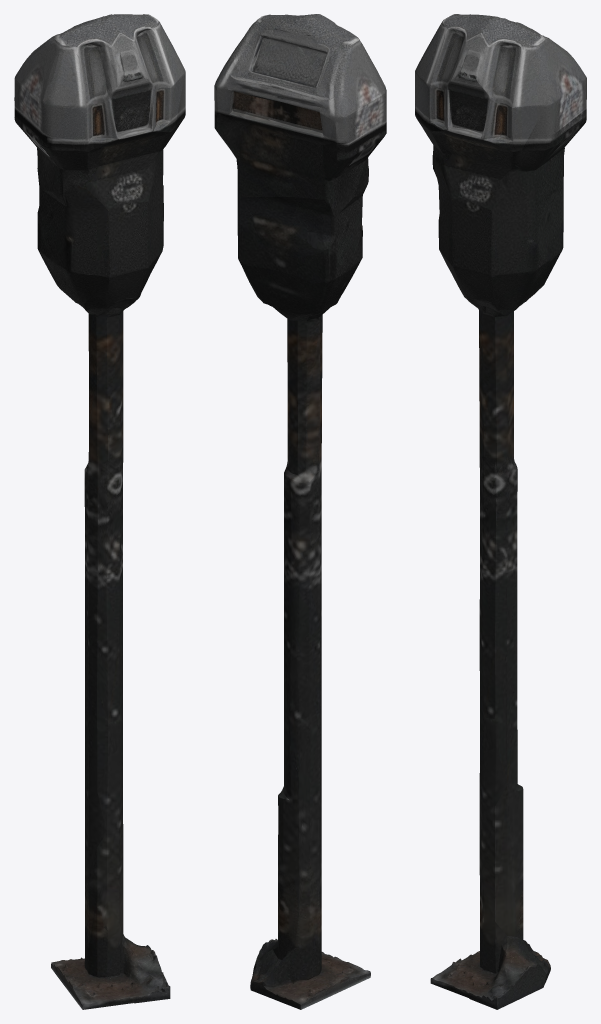
The model's file is coin-parking-meter.glb.
3 renders of one model, left to right at view 1: azimuth 30°, elevation 25°; view 2: azimuth 150°, elevation 25°; view 3: azimuth 330°, elevation 25°, orthographic.
Parts seen in each view (by area): view 1: Mesh_0; view 2: Mesh_0; view 3: Mesh_0.
Boxes of the visible parts, x1,y1,x2,y2 form: Mesh_0: (14, 14, 185, 1009); Mesh_0: (214, 14, 386, 1009); Mesh_0: (415, 14, 586, 1009).
Size of the model in its own units: 0.225 by 1.48 by 0.17.
1 material, 1 textured.
